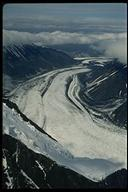cloud: (6, 8, 125, 41)
mountain: (5, 37, 85, 96)
snow: (63, 127, 118, 163)
